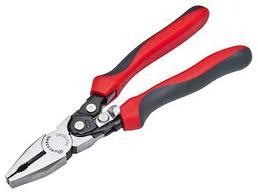pliers: (3, 3, 252, 185)
